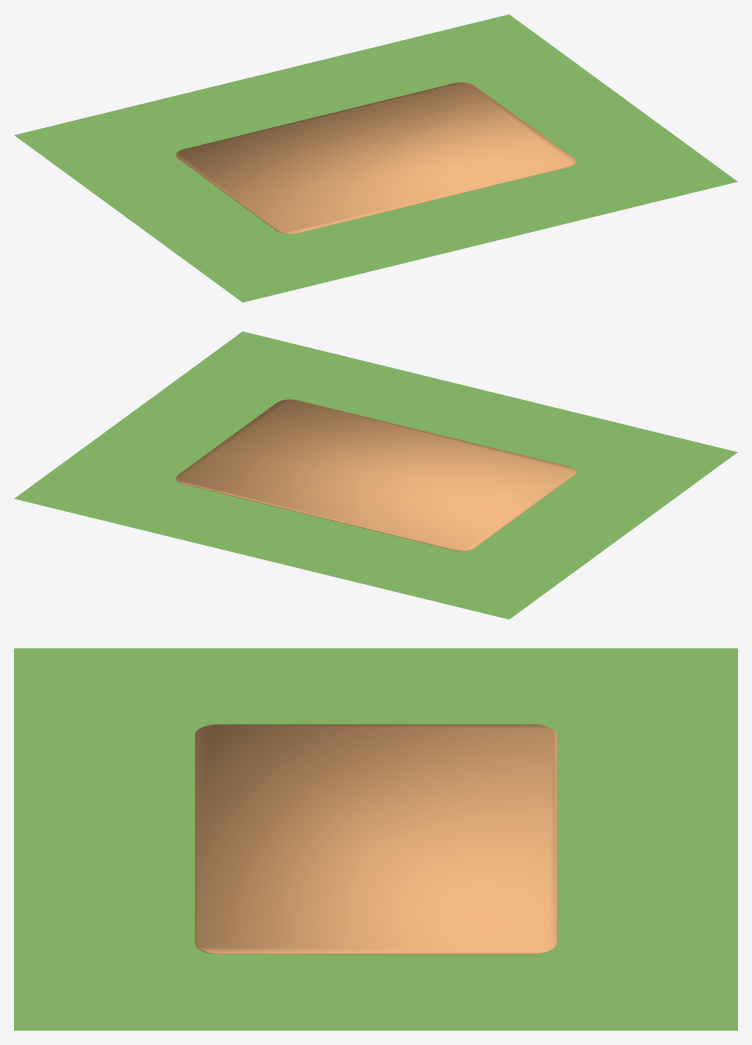
Rendered from explore_ground_150.glb.
3 views of the same model, one above another, from view 1: azimuth 30°, elevation 25°; view 2: azimuth 150°, elevation 25°; view 3: azimuth 270°, elevation 25° (orthographic). The views are drawn at different scales.
Parts seen in each view (by area): view 1: outer_grass, field_slab; view 2: outer_grass, field_slab; view 3: outer_grass, field_slab.
Part boxes in pixels (x1,y1,x2,y2): outer_grass: [14, 14, 737, 302]; field_slab: [176, 82, 575, 233]; outer_grass: [14, 331, 737, 619]; field_slab: [176, 399, 575, 550]; outer_grass: [14, 648, 737, 1030]; field_slab: [195, 724, 556, 954].
Bounding box in the file's own units: 180 × 0.4 × 144.
